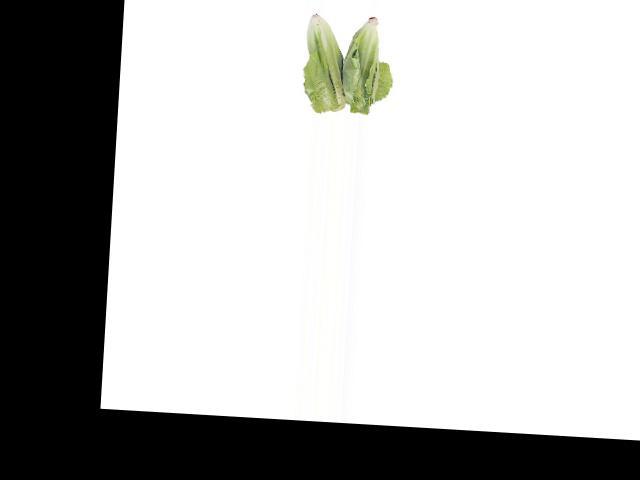lettuce: (296, 11, 386, 116)
